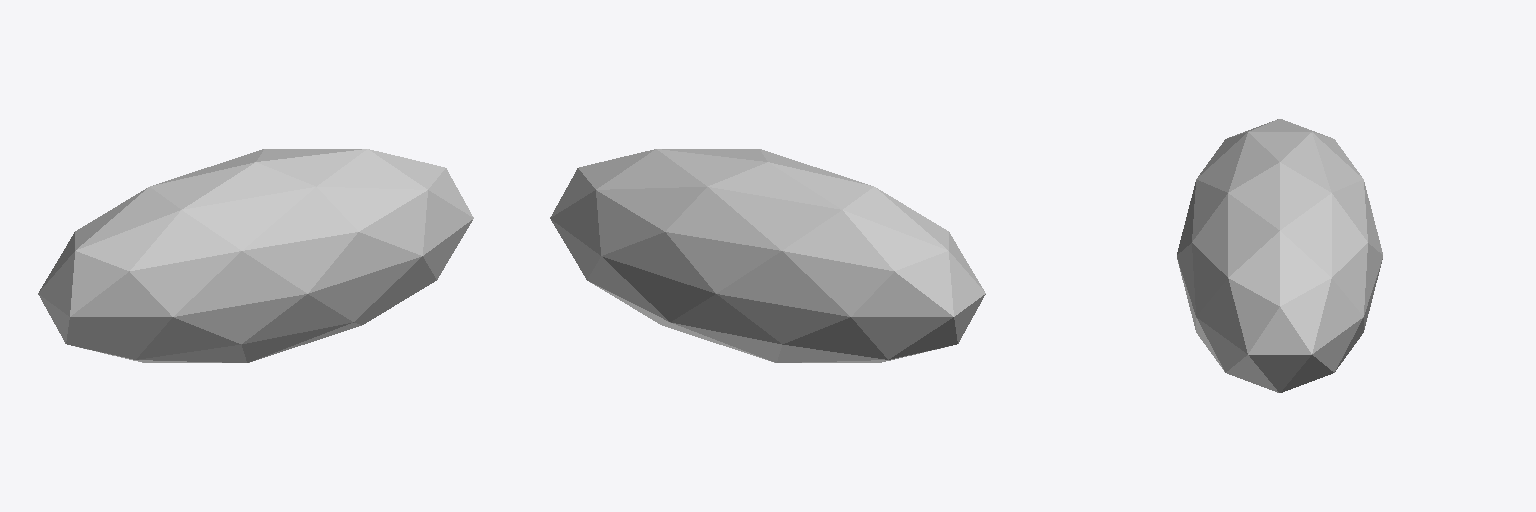
Rendered from myModel3.obj.
3 renders of one model, left to right at view 1: azimuth 30°, elevation 25°; view 2: azimuth 150°, elevation 25°; view 3: azimuth 270°, elevation 25°, orthographic.
Visible parts, largest first — view 1: Icosphere; view 2: Icosphere; view 3: Icosphere.
Part boxes in pixels (x1,y1,x2,y2): Icosphere: (38, 149, 473, 362); Icosphere: (550, 149, 985, 362); Icosphere: (1177, 119, 1382, 392).
Bounding box in the file's own units: 0.7468 × 0.3316 × 0.3316.